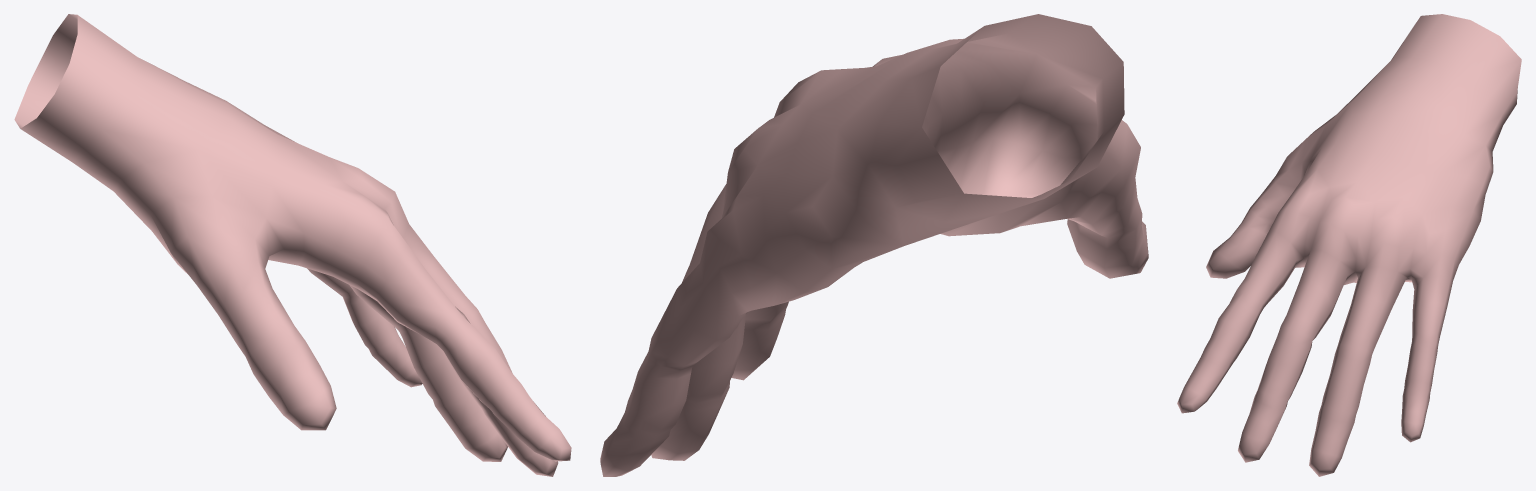
Rendered from Anime_Female_A_Hand02.fbx.
The picture shows the model from 3 angles, left to right: view 1: azimuth 30°, elevation 25°; view 2: azimuth 150°, elevation 25°; view 3: azimuth 270°, elevation 25°; orthographic projection. The views are drawn at different scales.
Parts seen in each view (by area): view 1: Anime_Female_A_Hand02; view 2: Anime_Female_A_Hand02; view 3: Anime_Female_A_Hand02.
Boxes of the visible parts, x1,y1,x2,y2 form: Anime_Female_A_Hand02: [14, 14, 571, 476]; Anime_Female_A_Hand02: [600, 14, 1148, 476]; Anime_Female_A_Hand02: [1177, 14, 1521, 476].
Bounding box in the file's own units: 0.8093 × 0.8721 × 0.8041.
